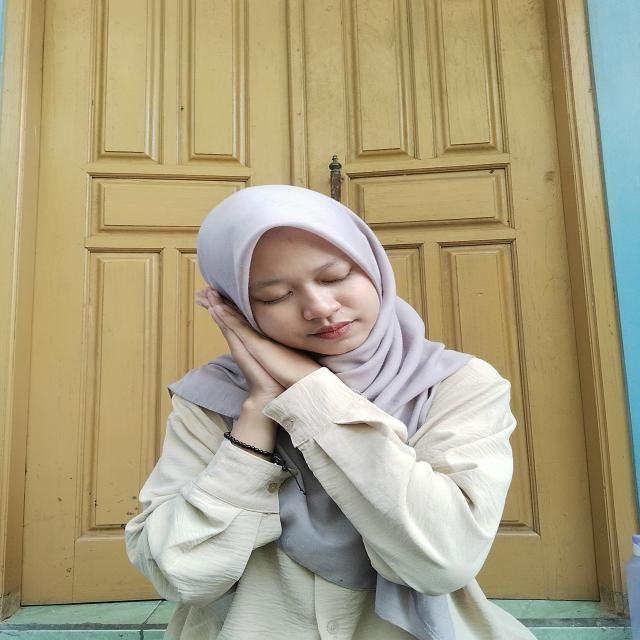tidur: (183, 281, 360, 464)
